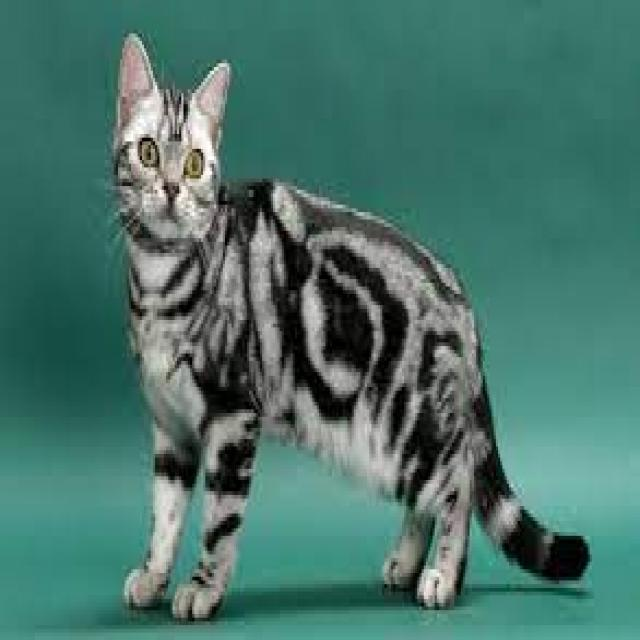cat-face: (89, 34, 262, 282)
